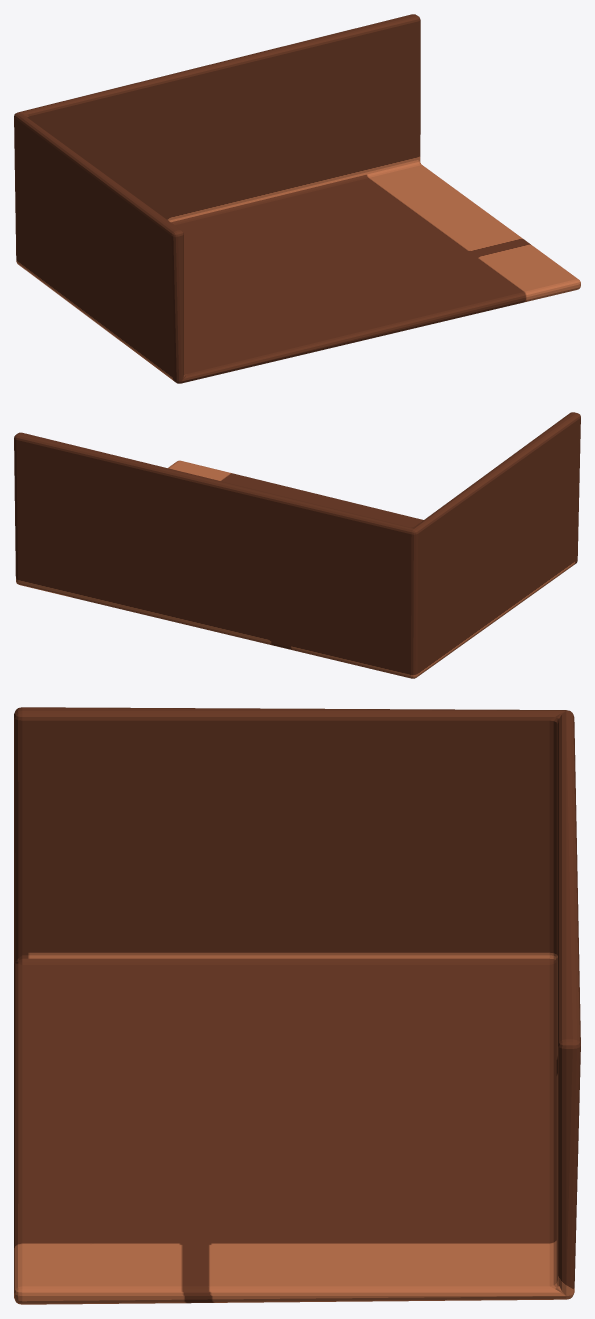
The model's file is baseFloor1_asset.fbx.
3 views of the same model, one above another, from view 1: azimuth 30°, elevation 25°; view 2: azimuth 150°, elevation 25°; view 3: azimuth 270°, elevation 25° (orthographic). The views are drawn at different scales.
Visible parts, largest first — view 1: Room; view 2: Room; view 3: Room.
Part boxes in pixels (x1,y1,x2,y2): Room: [14, 14, 580, 383]; Room: [14, 412, 580, 678]; Room: [14, 707, 580, 1304].
Bounding box in the file's own units: 515 × 188 × 365.
